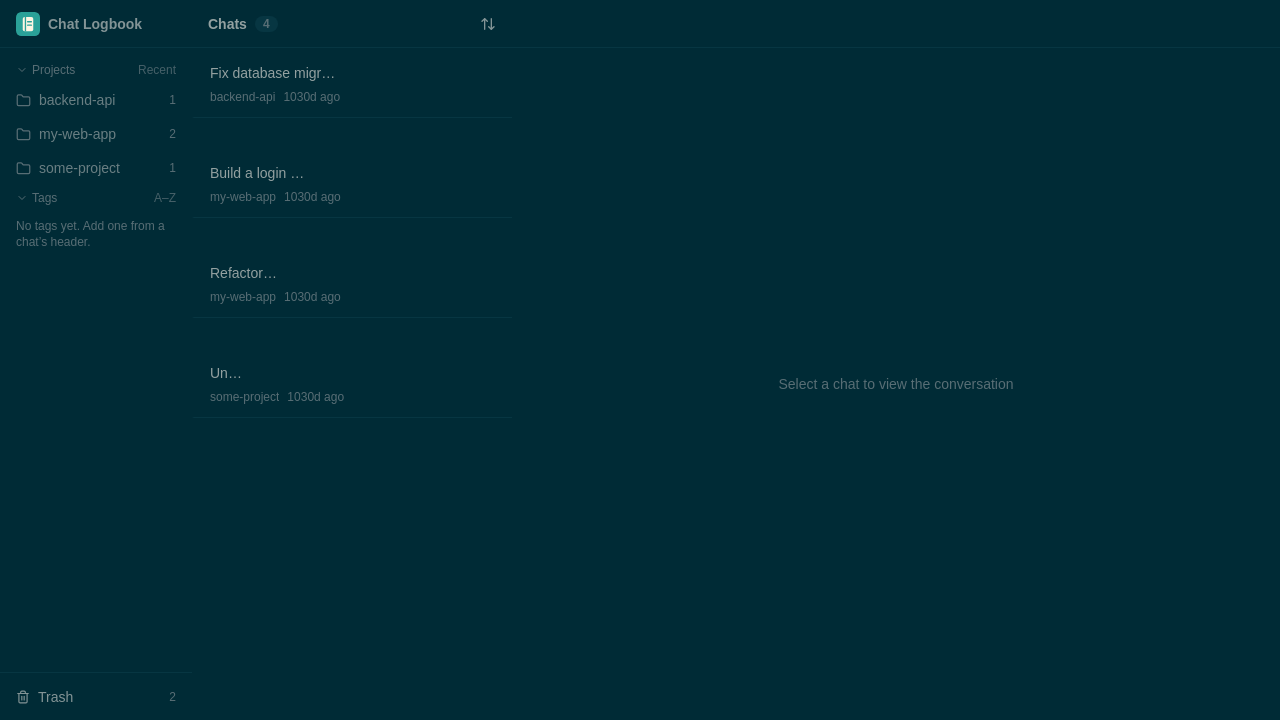
Test case: Chat metadata popover › in Trash mode, Esc closes the popover but does not exit Trash
Expected: the text "Build a login page" is shown, left=204, top=161, right=315, bottom=185
Click the button with test id "trash-link" at (96, 696), box left=8, top=680, right=184, bottom=712
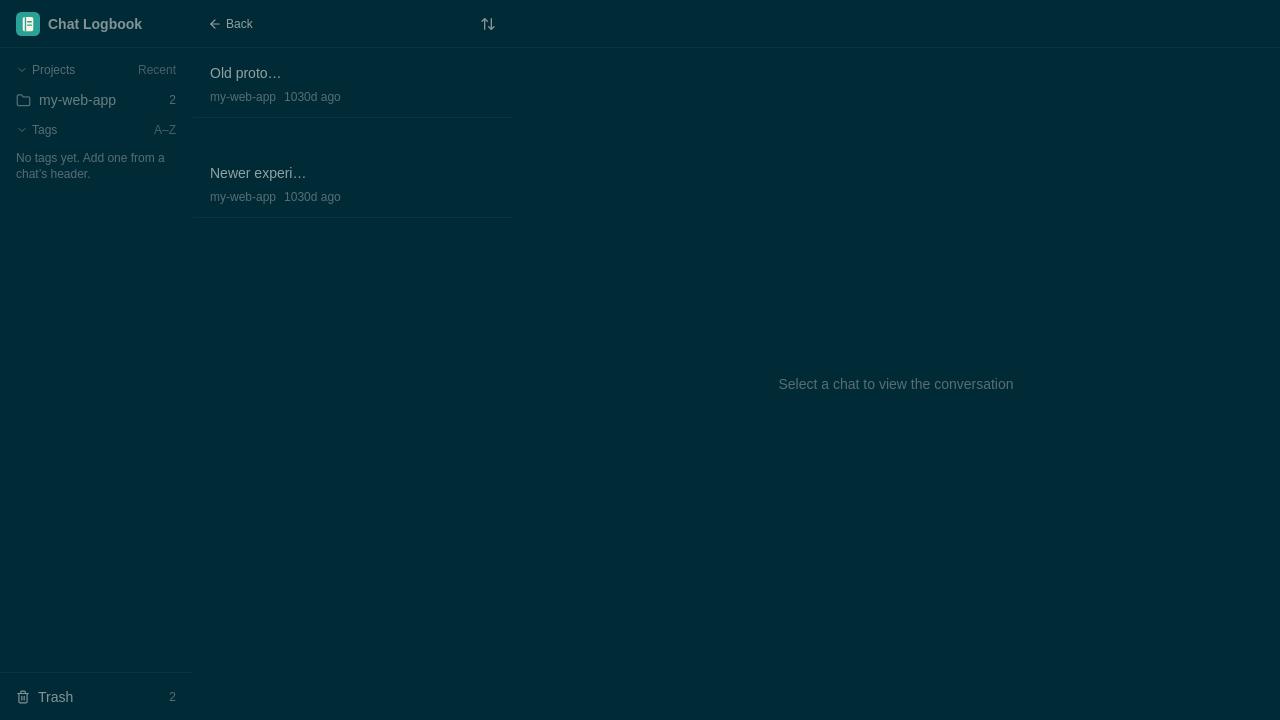
Click the text "Old prototype" at (246, 73), box left=204, top=61, right=288, bottom=85
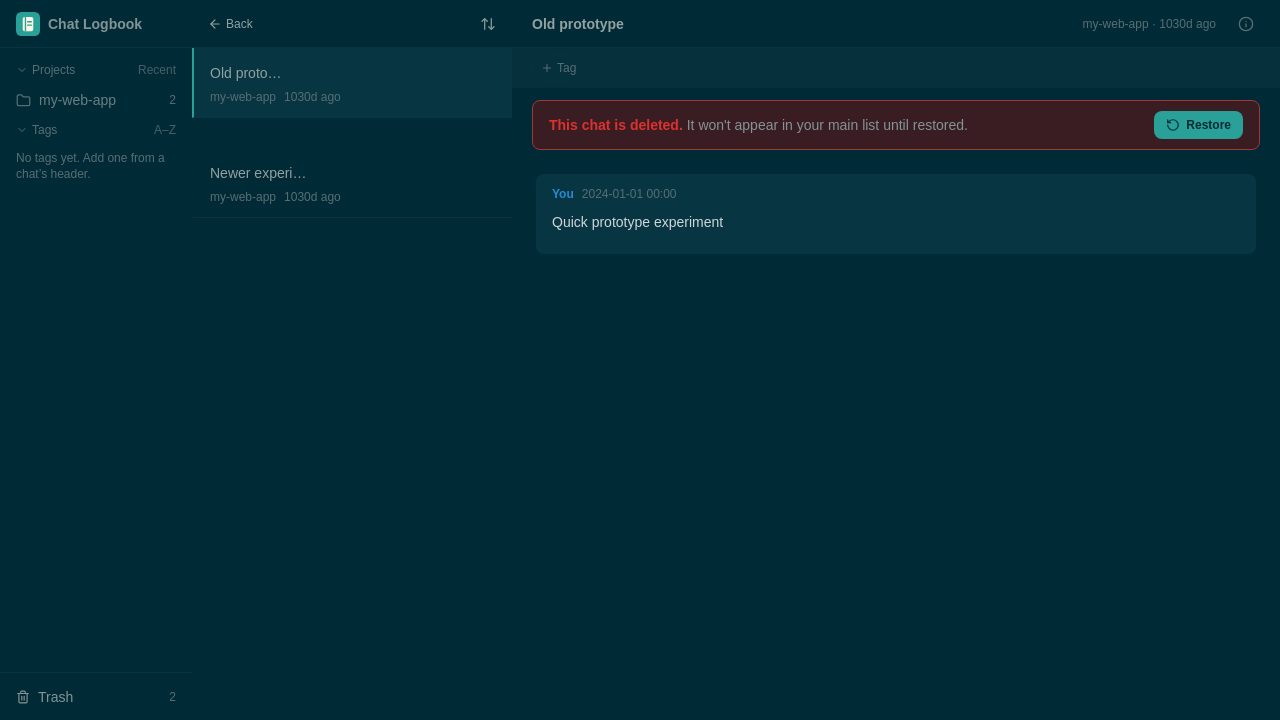
Click the button named "chat info" at (1246, 24), box left=1232, top=10, right=1260, bottom=38
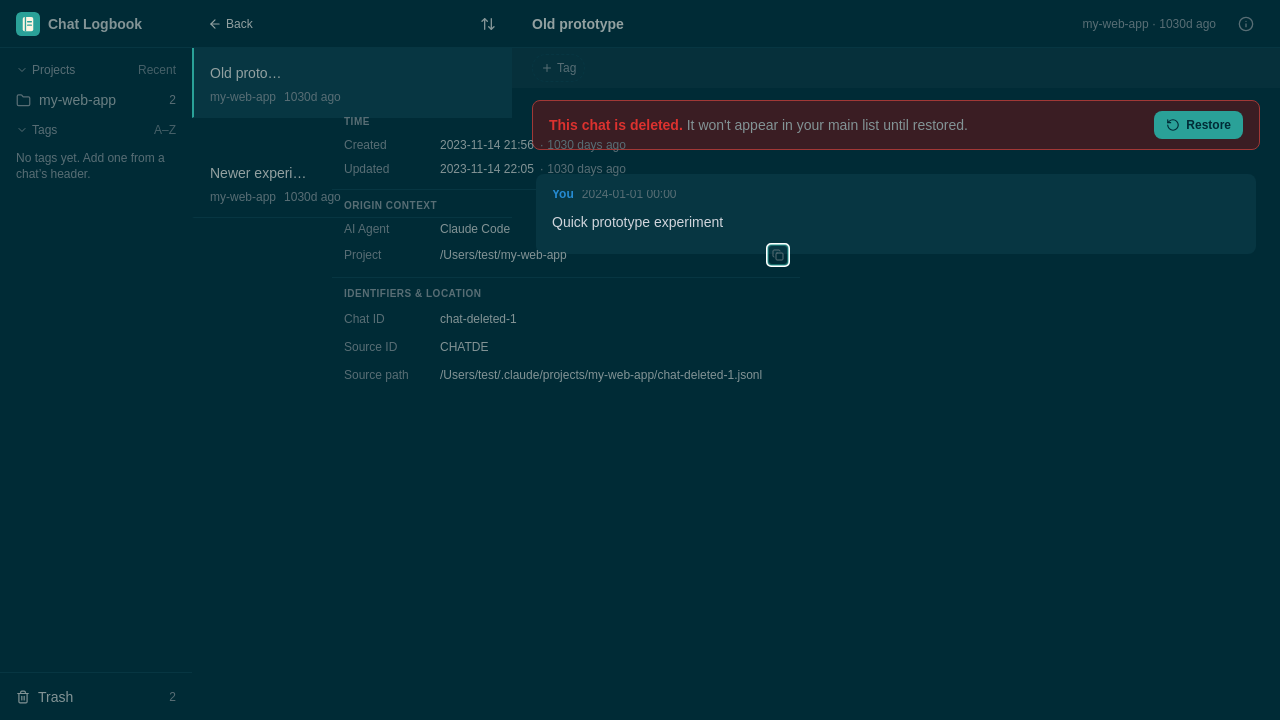
Expected: the dialog with test id "chat-metadata-popover" is shown, left=332, top=106, right=800, bottom=397
Press Escape
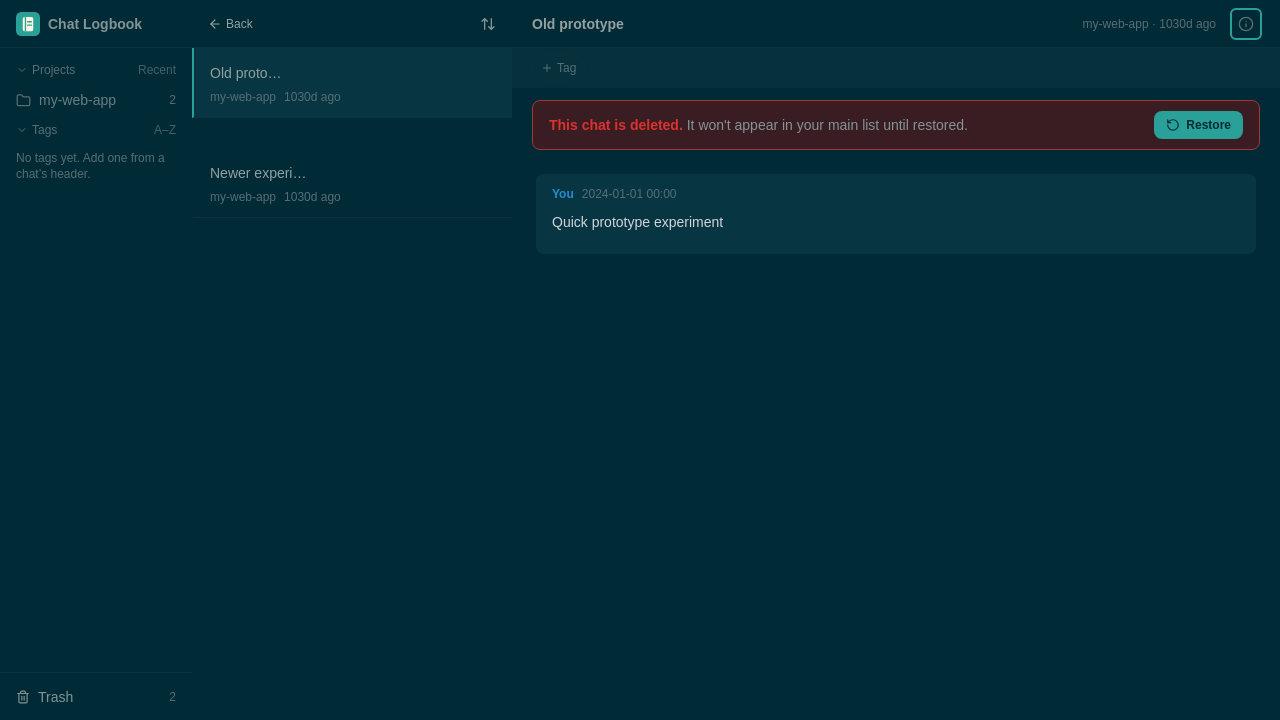
Expected: the 2nd text "Old prototype" is shown, left=204, top=61, right=288, bottom=85
Expected: the dialog with test id "chat-metadata-popover" is gone
